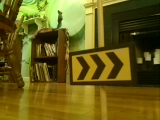right: (71, 46, 135, 82)
